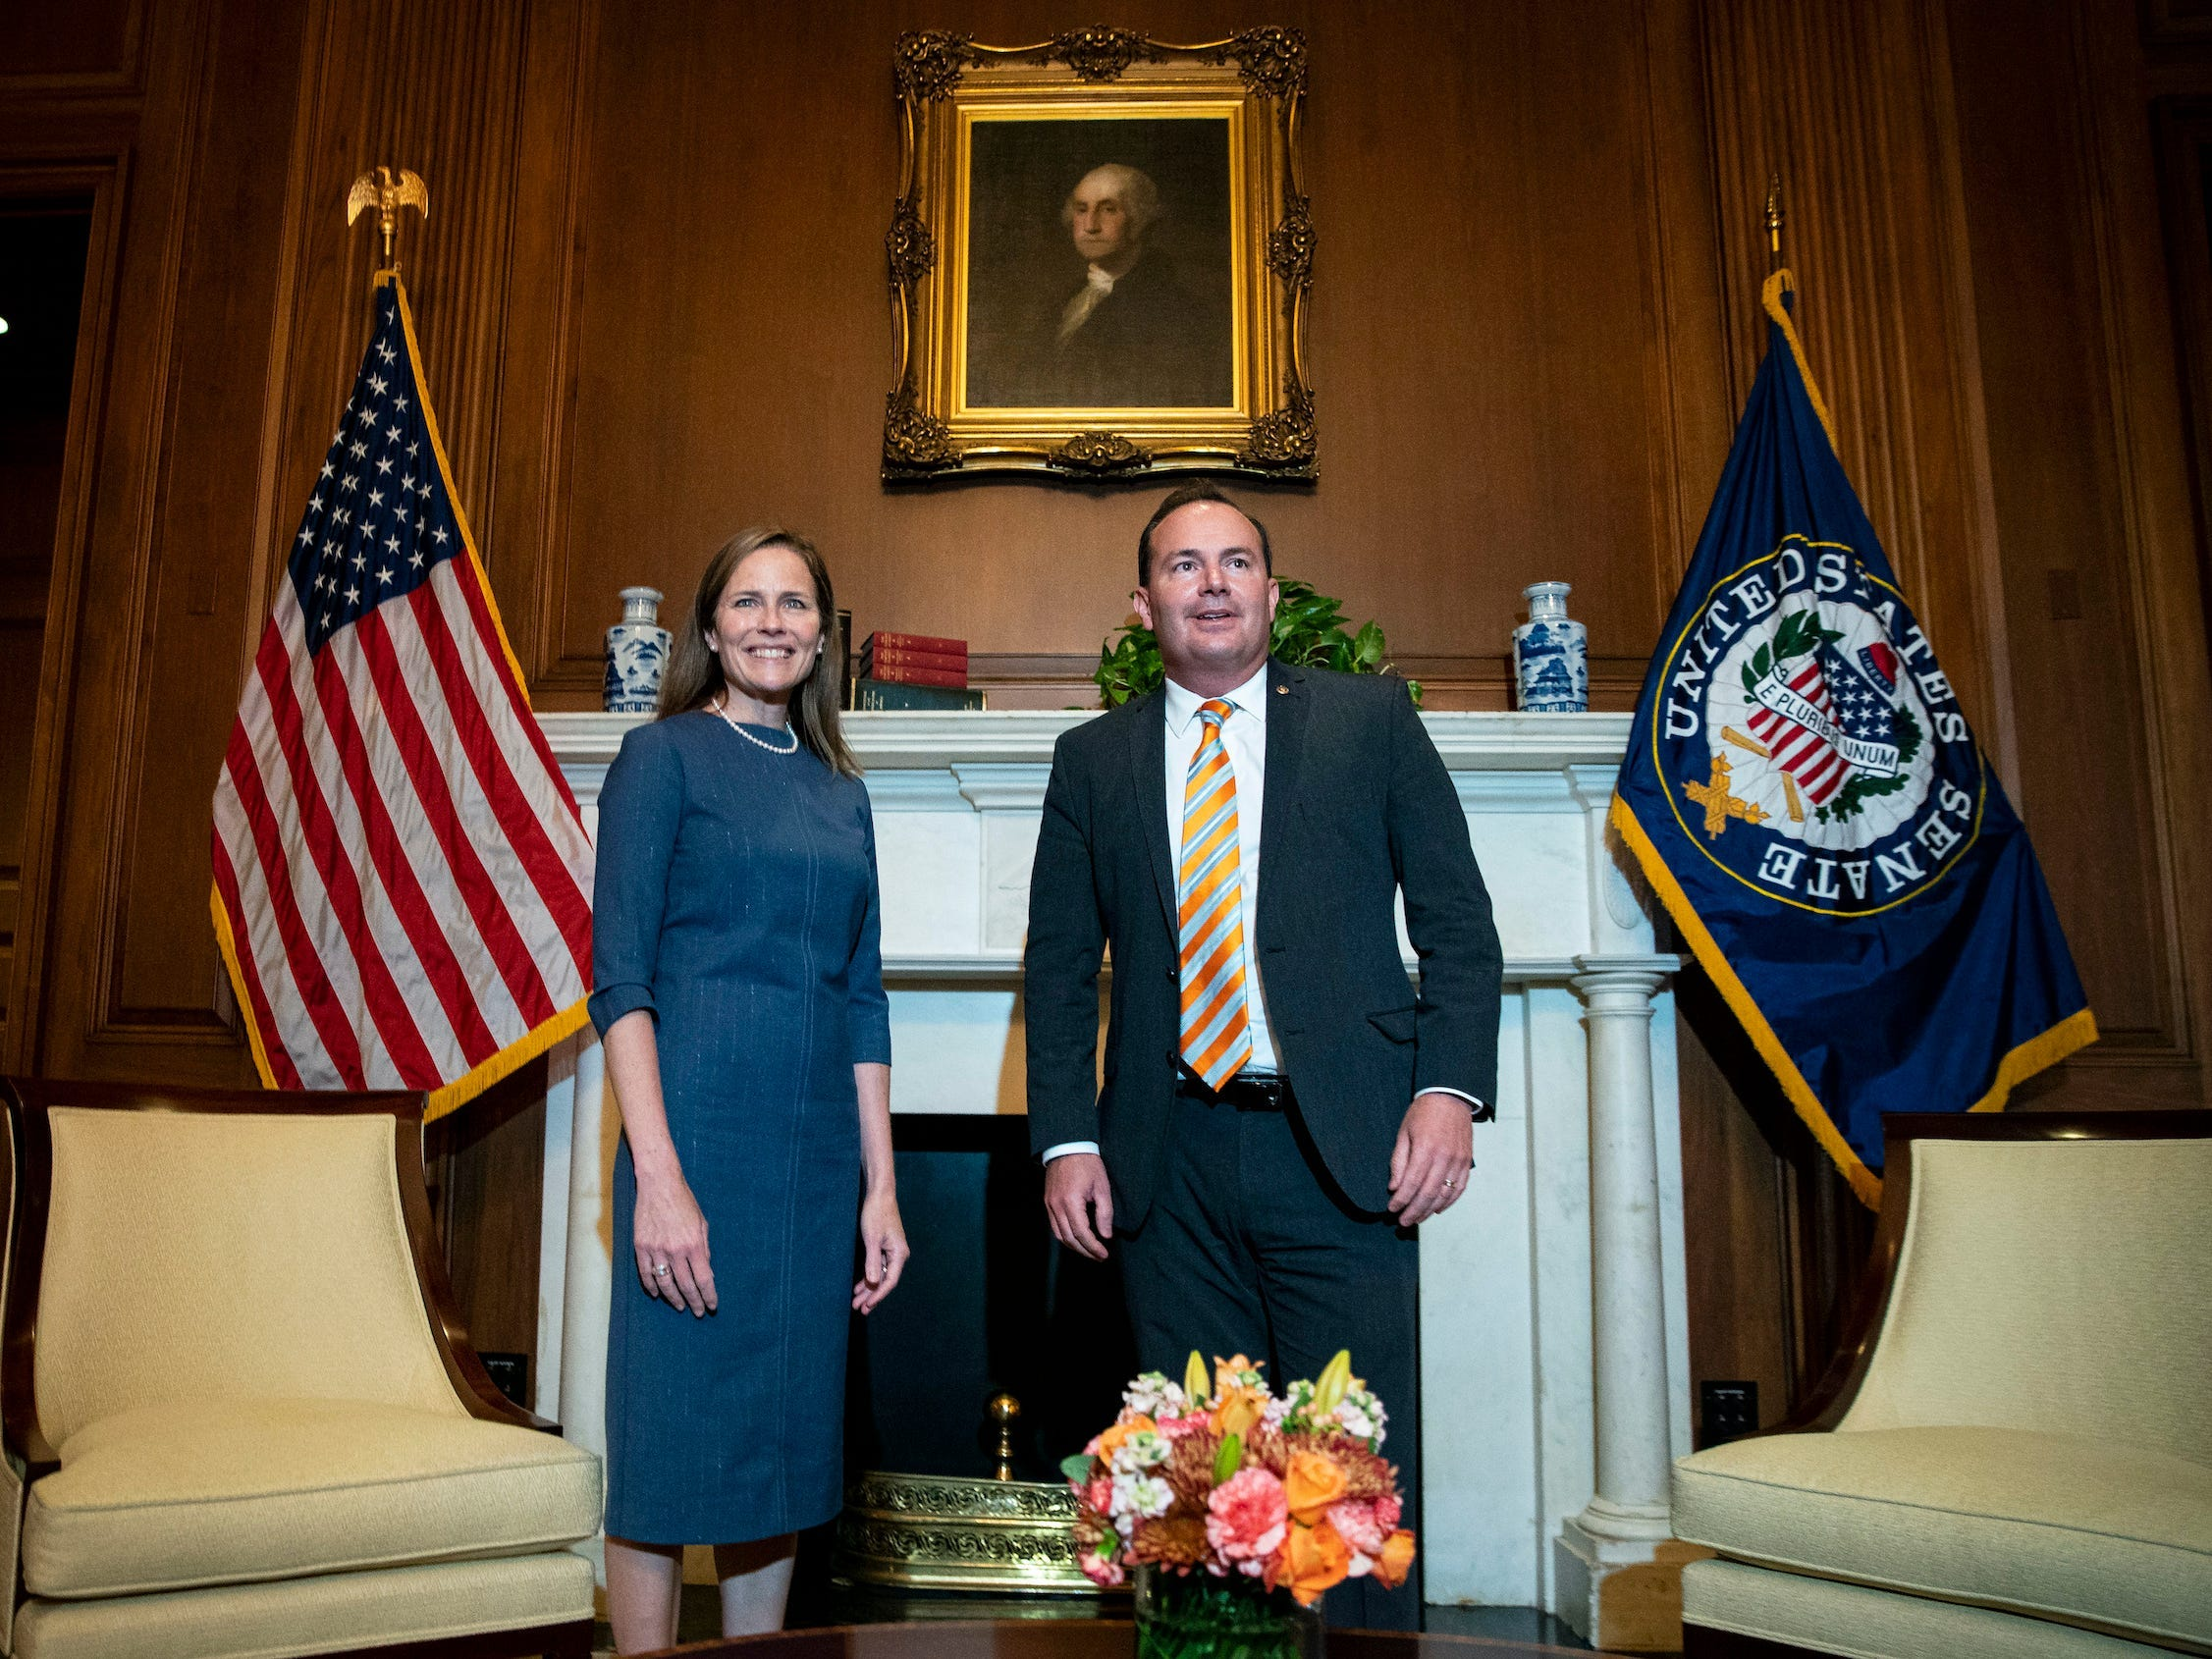no_mask: (1118, 472, 1291, 702), (683, 515, 838, 730)
